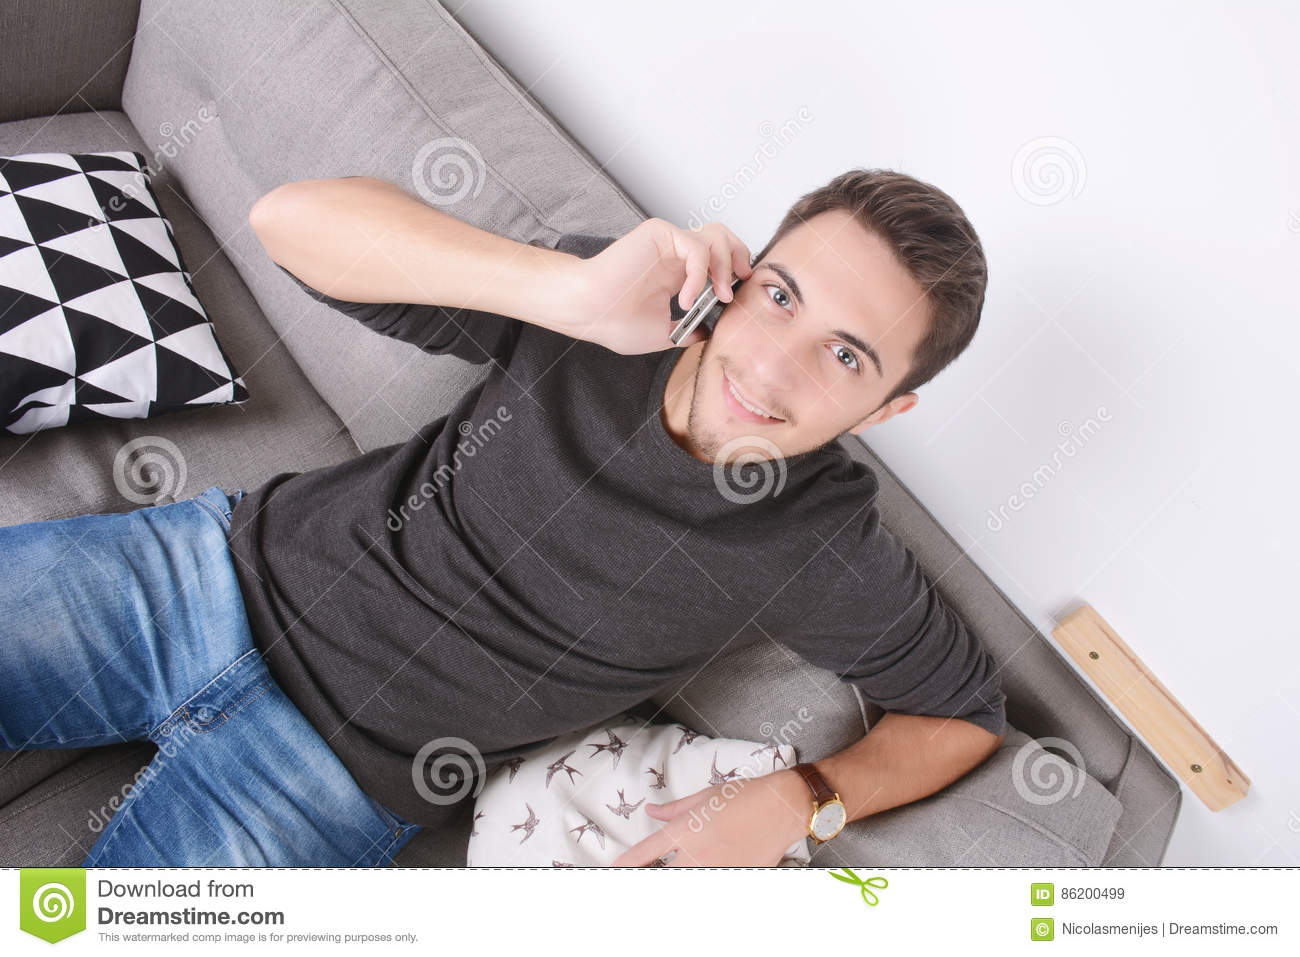phone: (667, 263, 754, 351)
talk: (587, 217, 884, 467)
